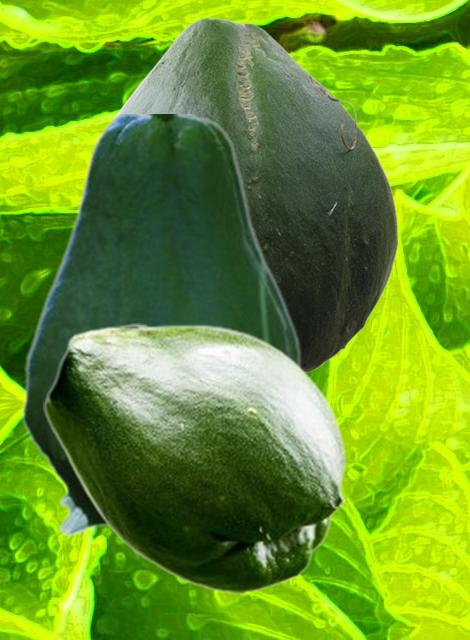sayote: (21, 114, 302, 560), (113, 17, 397, 373), (43, 323, 346, 593)
